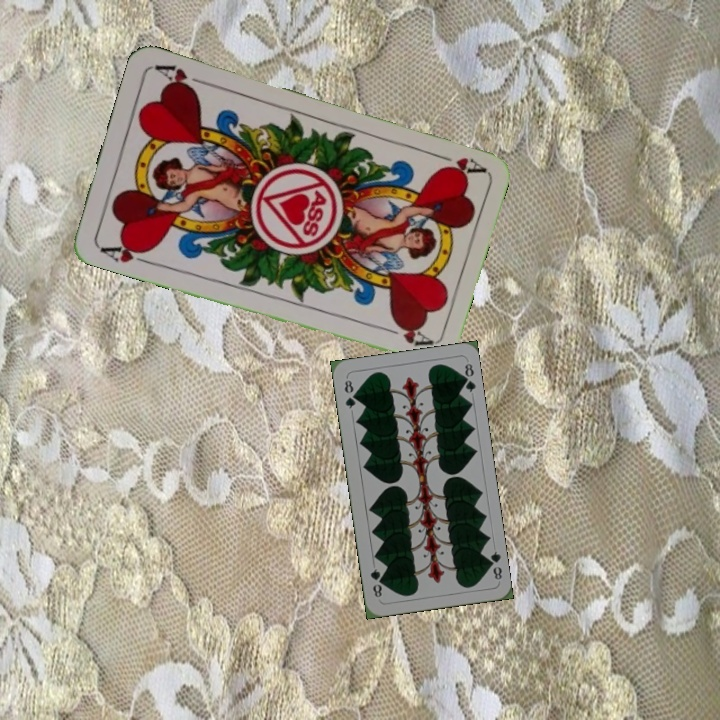G8: (483, 547, 505, 582), (340, 376, 359, 411)
HA: (96, 237, 153, 267), (428, 149, 486, 178)
